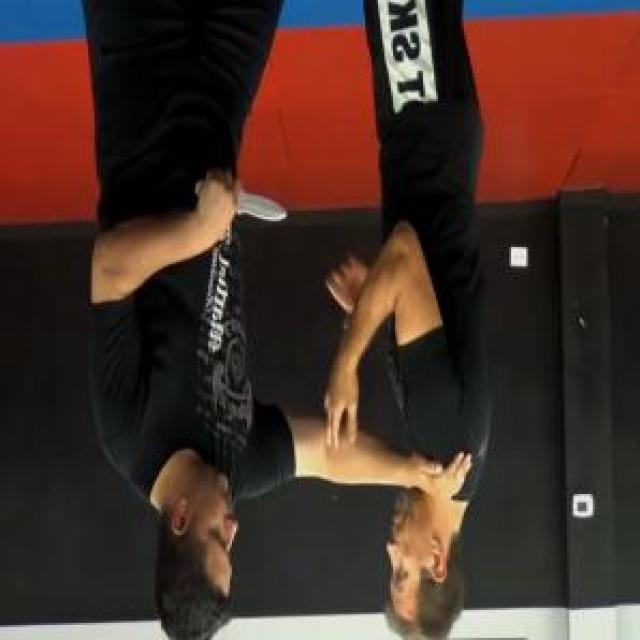knife: (193, 167, 289, 230)
